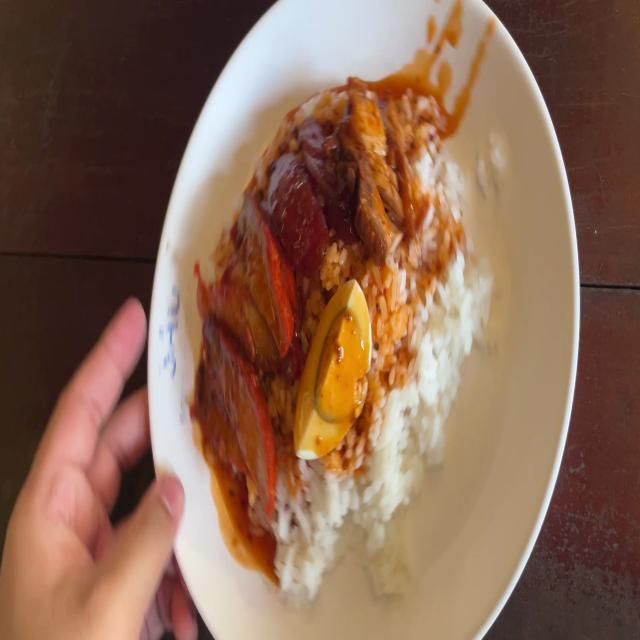01boiled_egg: (299, 291, 368, 453)
01chainese_sausage: (270, 118, 351, 272)
01crispy_pork: (353, 74, 426, 258)
01red_pork: (205, 202, 284, 500)
01red_pork_and_crispy_pork: (206, 86, 489, 570)
01rice: (369, 259, 481, 509), (278, 464, 386, 596), (428, 148, 463, 271)
